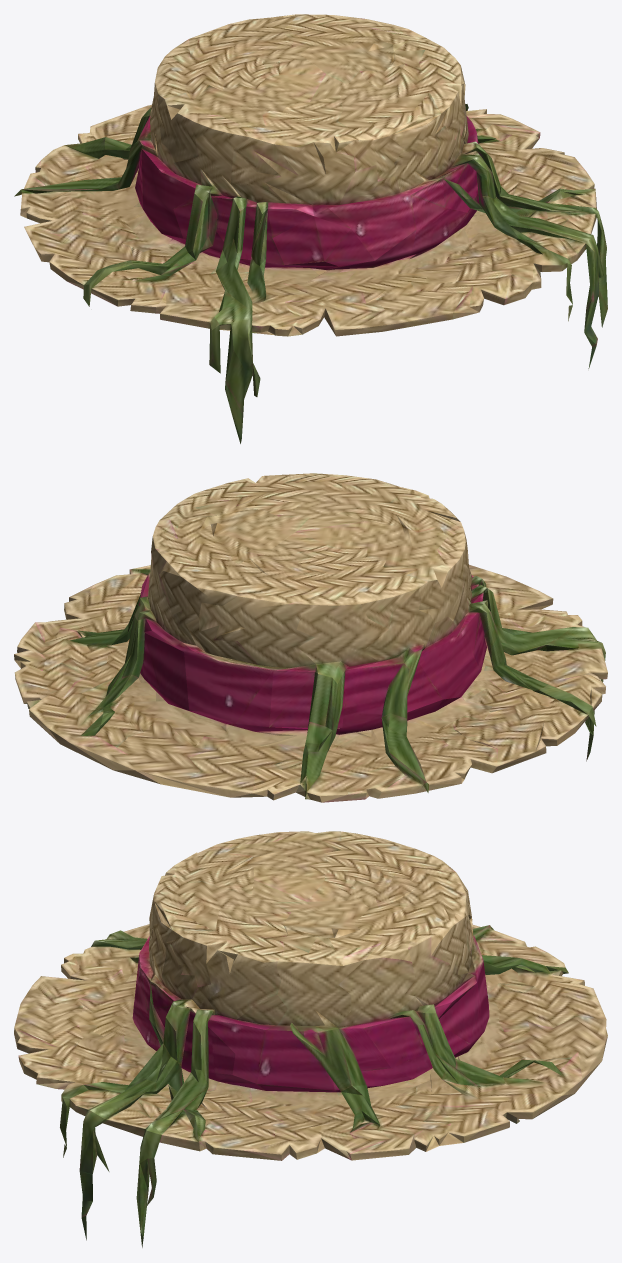
File: gondola-testa.glb
The picture shows the model from 3 angles, top to bottom: view 1: azimuth 30°, elevation 25°; view 2: azimuth 150°, elevation 25°; view 3: azimuth 270°, elevation 25°; orthographic projection. The views are drawn at different scales.
Parts seen in each view (by area): view 1: Mesh_0; view 2: Mesh_0; view 3: Mesh_0.
Part boxes in pixels (box(x1,y1,x2,y2)): Mesh_0: box(14, 14, 607, 443); Mesh_0: box(14, 473, 607, 802); Mesh_0: box(14, 831, 607, 1247).
Bounding box in the file's own units: 1.9 × 0.9359 × 1.9.
Materials: 1 (1 with a texture image).
